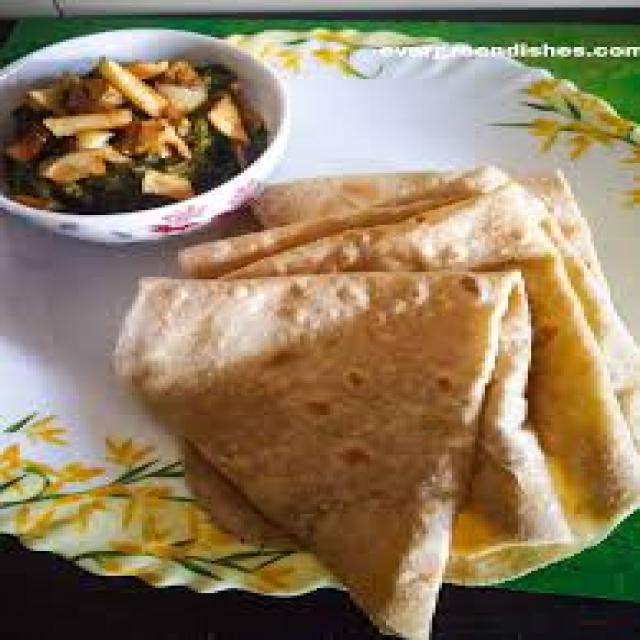BAJI: (6, 48, 269, 207)
ROTI: (119, 167, 637, 636)
